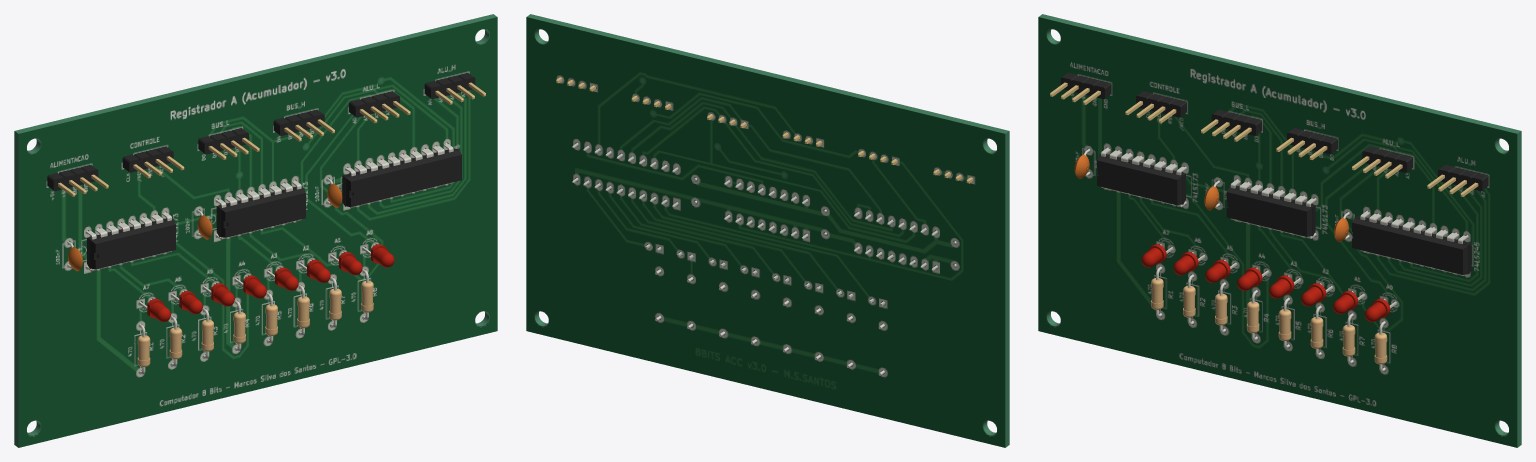
The model's file is acc-registrador-a.glb.
The picture shows the model from 3 angles, left to right: view 1: azimuth 30°, elevation 25°; view 2: azimuth 150°, elevation 25°; view 3: azimuth 330°, elevation 25°; orthographic projection.
Parts seen in each view (by area): view 1: superficie_topo, =>[0:1:1:14], =>[0:1:1:13]_489d98, =>[0:1:1:7]_1_f21d8b, =>[0:1:1:7]_51f3f3, =>[0:1:1:13], =>[0:1:1:11]_4_7d99a7, =>[0:1:1:11]_5_b24ee9, =>[0:1:1:11]_1_a42824, =>[0:1:1:11]_3_e74603, =>[0:1:1:11]_50ef7f, =>[0:1:1:11]_2_9efca6 (+2 smaller); view 2: superficie_fundo, =>[0:1:1:14]; view 3: superficie_topo, =>[0:1:1:14], =>[0:1:1:13]_489d98, =>[0:1:1:7]_1_f21d8b, =>[0:1:1:7]_51f3f3, =>[0:1:1:13], =>[0:1:1:11]_2_9efca6, =>[0:1:1:11]_3_e74603, =>[0:1:1:11]_50ef7f, =>[0:1:1:11]_5_b24ee9, =>[0:1:1:11]_1_a42824, =>[0:1:1:11]_4_7d99a7 (+2 smaller).
Part boxes in pixels (bbox=[...]): superficie_topo: bbox=[18, 17, 497, 447]; =>[0:1:1:14]: bbox=[14, 14, 496, 447]; =>[0:1:1:13]_489d98: bbox=[342, 148, 461, 207]; =>[0:1:1:7]_1_f21d8b: bbox=[216, 186, 305, 237]; =>[0:1:1:7]_51f3f3: bbox=[87, 218, 175, 269]; =>[0:1:1:13]: bbox=[345, 143, 453, 207]; =>[0:1:1:11]_4_7d99a7: bbox=[424, 72, 475, 99]; =>[0:1:1:11]_5_b24ee9: bbox=[122, 146, 173, 172]; =>[0:1:1:11]_1_a42824: bbox=[273, 109, 324, 135]; =>[0:1:1:11]_3_e74603: bbox=[47, 165, 98, 191]; =>[0:1:1:11]_50ef7f: bbox=[349, 91, 399, 117]; =>[0:1:1:11]_2_9efca6: bbox=[198, 128, 248, 154]; superficie_fundo: bbox=[526, 17, 1005, 447]; =>[0:1:1:14]: bbox=[527, 14, 1009, 447]; superficie_topo: bbox=[1038, 17, 1517, 447]; =>[0:1:1:14]: bbox=[1039, 14, 1521, 447]; =>[0:1:1:13]_489d98: bbox=[1352, 216, 1471, 274]; =>[0:1:1:7]_1_f21d8b: bbox=[1226, 186, 1315, 236]; =>[0:1:1:7]_51f3f3: bbox=[1097, 154, 1185, 205]; =>[0:1:1:13]: bbox=[1360, 210, 1468, 275]; =>[0:1:1:11]_2_9efca6: bbox=[1211, 109, 1262, 135]; =>[0:1:1:11]_3_e74603: bbox=[1060, 72, 1111, 99]; =>[0:1:1:11]_50ef7f: bbox=[1362, 146, 1413, 172]; =>[0:1:1:11]_5_b24ee9: bbox=[1136, 91, 1186, 117]; =>[0:1:1:11]_1_a42824: bbox=[1287, 128, 1337, 154]; =>[0:1:1:11]_4_7d99a7: bbox=[1438, 165, 1488, 191].
Bounding box in the file's own units: 0.1095 × 0.0686 × 0.0118.
8 materials, 2 textured.
